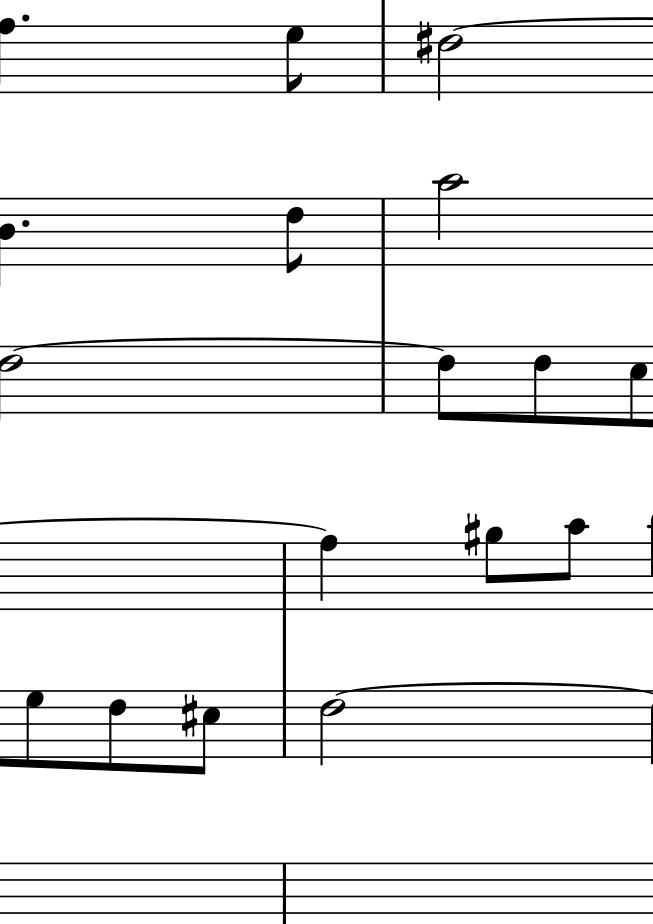2_10: (435, 172, 465, 268)
2_6: (316, 688, 347, 769), (436, 25, 465, 100)
4_8: (317, 534, 340, 613)
8_10: (555, 517, 588, 611)
8_5: (192, 686, 223, 778), (626, 343, 649, 431)
8_6: (530, 344, 556, 426), (106, 684, 128, 777), (436, 343, 457, 423), (285, 195, 305, 277)
8_7: (22, 685, 47, 770), (285, 24, 305, 97)
8_9: (482, 525, 506, 615)
Sharp: (179, 691, 199, 741), (416, 19, 436, 67), (462, 513, 481, 559)
Single_barline: (374, 345, 393, 413), (276, 541, 294, 609), (275, 689, 293, 757), (376, 197, 393, 265), (376, 25, 393, 92)
Slur: (11, 335, 448, 352), (334, 682, 653, 697)
dot: (19, 217, 33, 229), (19, 12, 33, 24)
